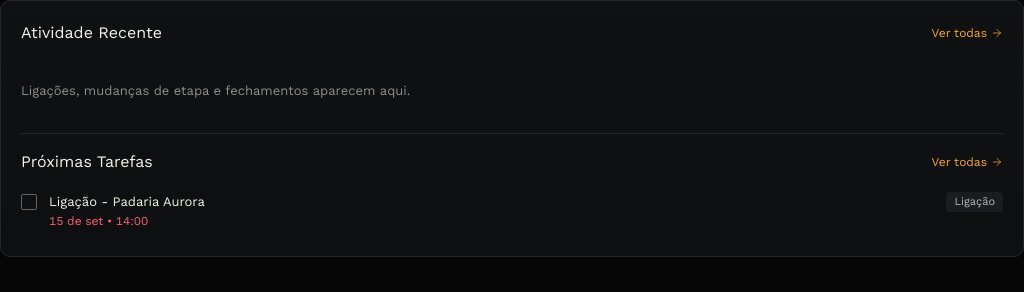
Scenario: fila de tarefas › não avisa o painel quando concluir falha, e explica na própria linha
Click the checkbox named "Concluir Ligação".
click(29, 202)  # box 21,194 -> 37,210
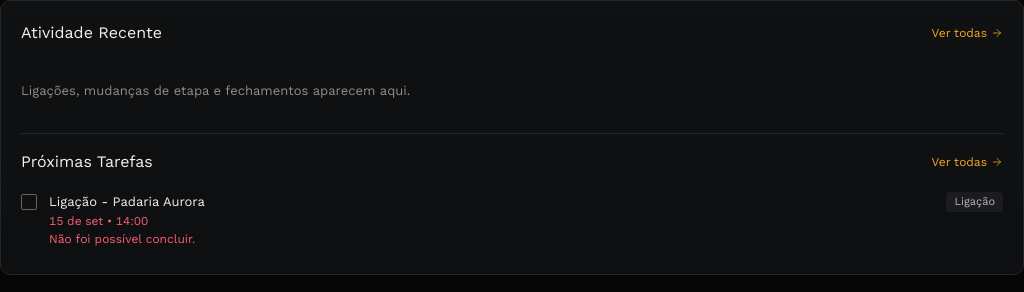
expect the message reads "Não foi possível concluir.": met, box 49,232 -> 195,246
